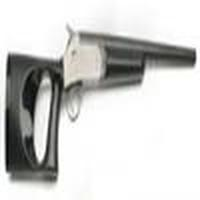gun: (5, 31, 197, 182)
